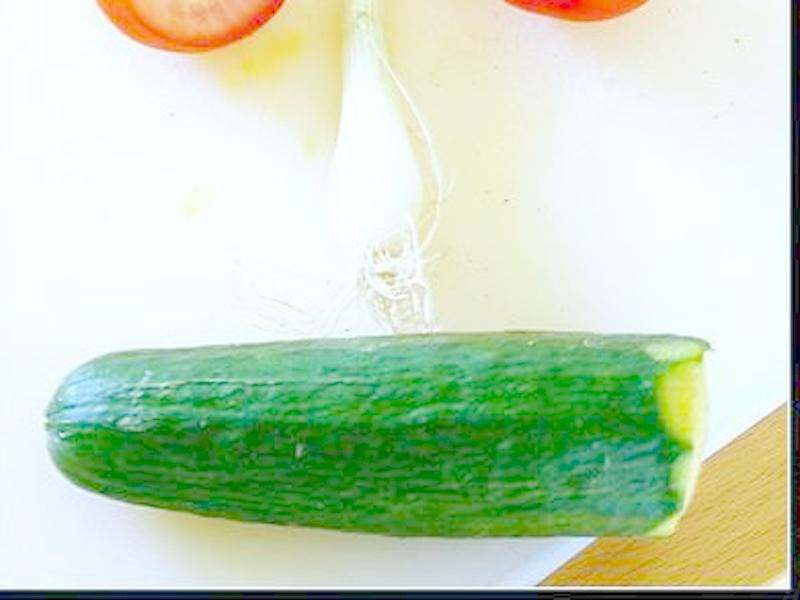Cucumber: (40, 334, 711, 539)
